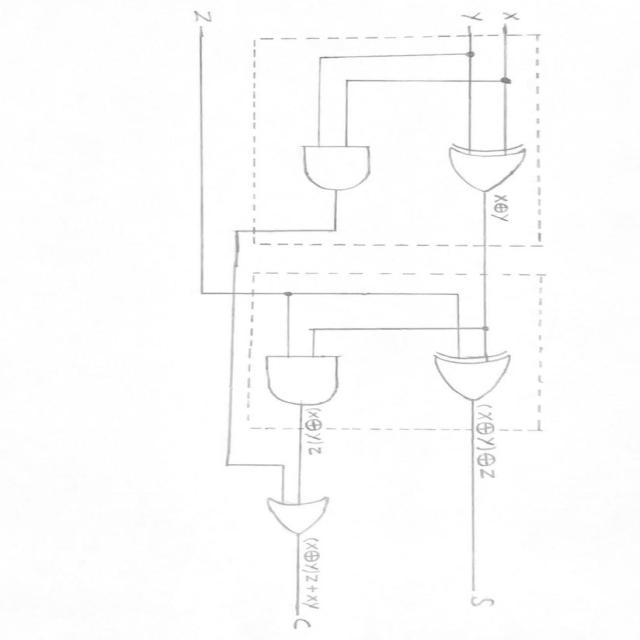AND: (252, 350, 350, 410), (291, 138, 383, 198)
OR: (245, 494, 342, 540)
XOR: (420, 345, 528, 405), (437, 136, 534, 194)
